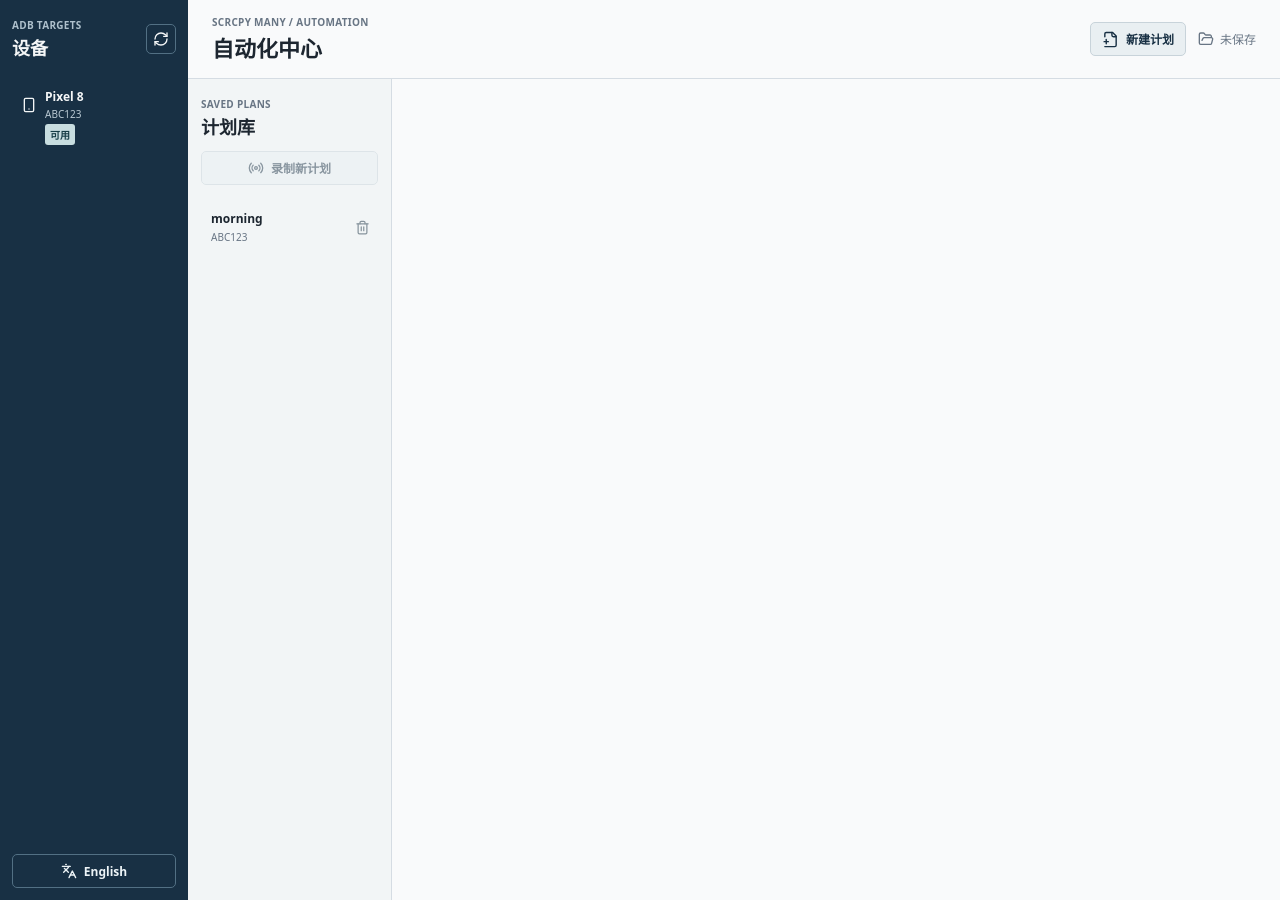
Test case: App › deletes a saved plan from the library
Click the button named "删除计划: morning" at [362, 227], box [349,214,375,240]
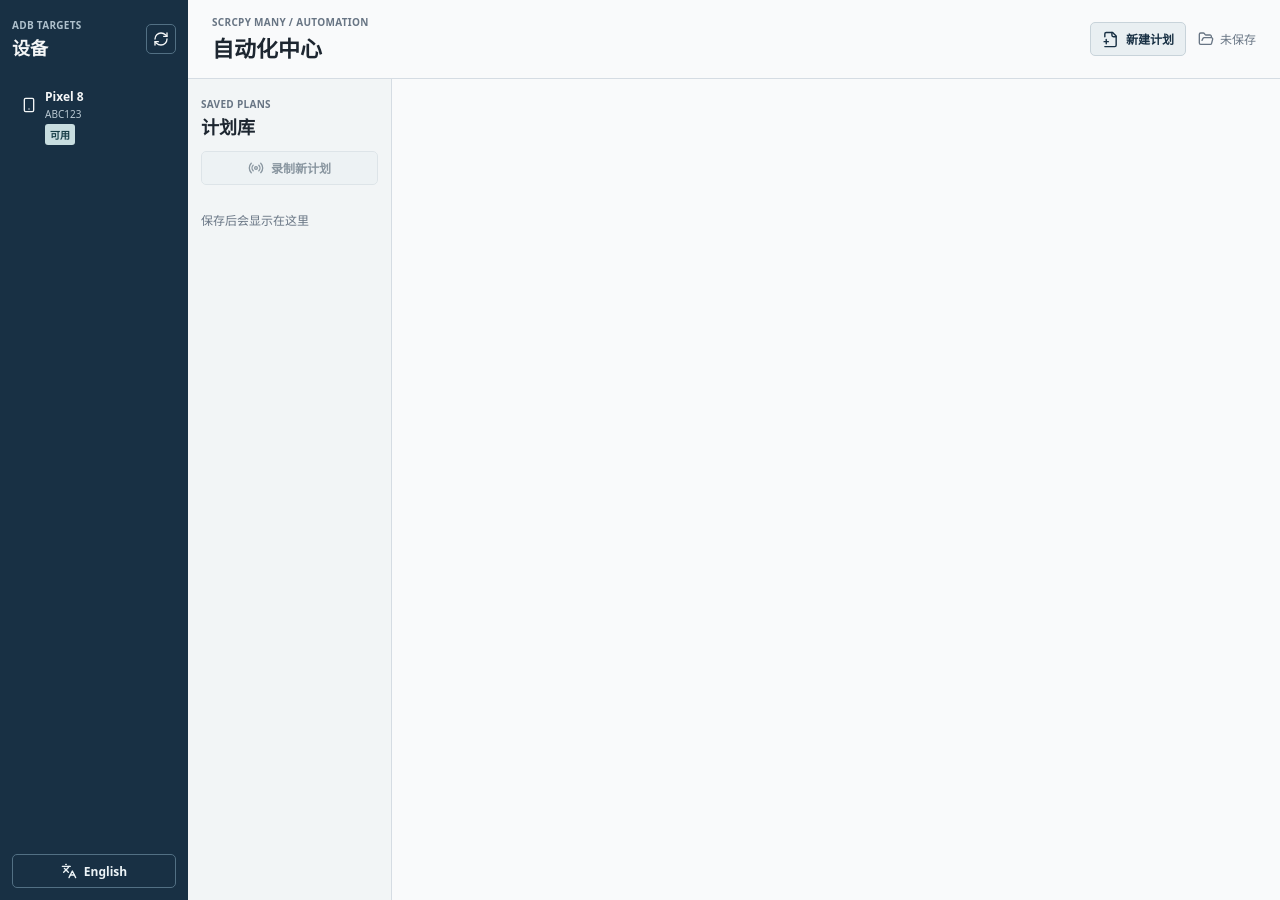
expect the button "morning" is gone: met
